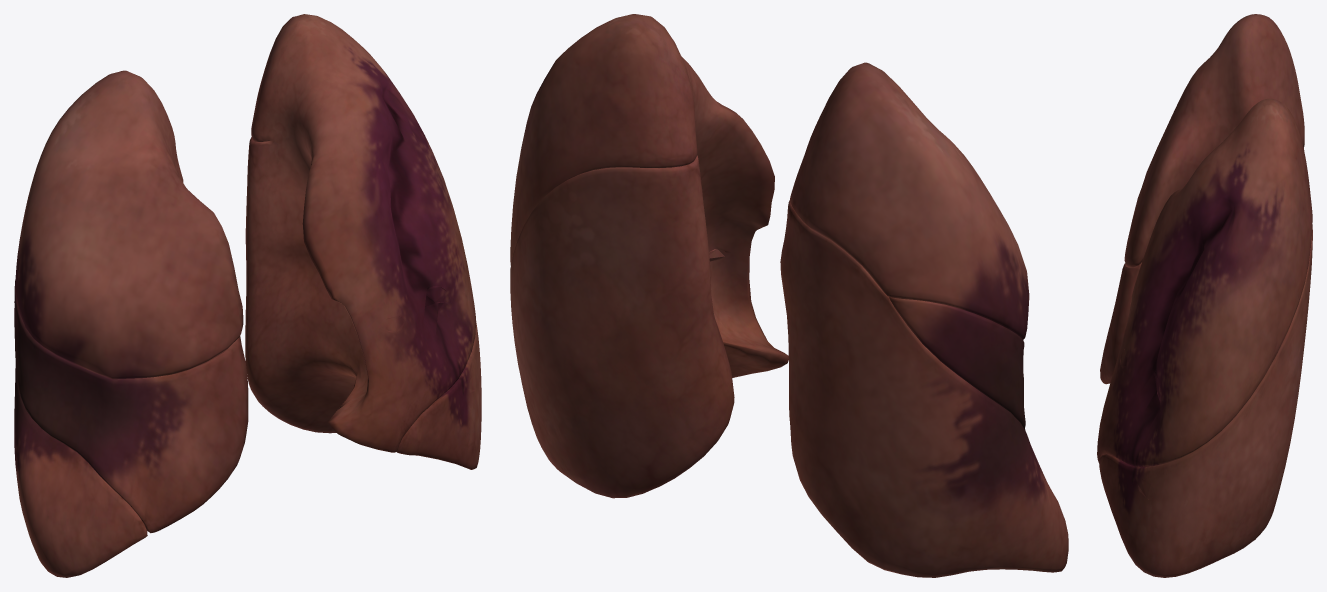
Rendered from pulmones_atropellado.fbx.
The picture shows the model from 3 angles, left to right: view 1: azimuth 30°, elevation 25°; view 2: azimuth 150°, elevation 25°; view 3: azimuth 270°, elevation 25°; orthographic projection. The views are drawn at different scales.
Parts seen in each view (by area): view 1: sistema respiratorio; view 2: sistema respiratorio; view 3: sistema respiratorio.
Boxes of the visible parts, x1,y1,x2,y2 form: sistema respiratorio: (14, 14, 481, 577); sistema respiratorio: (510, 14, 1068, 577); sistema respiratorio: (1097, 14, 1312, 577).
Size of the model in its own units: 1.19 by 1.11 by 0.5067.
Materials: 2 (2 with a texture image).
